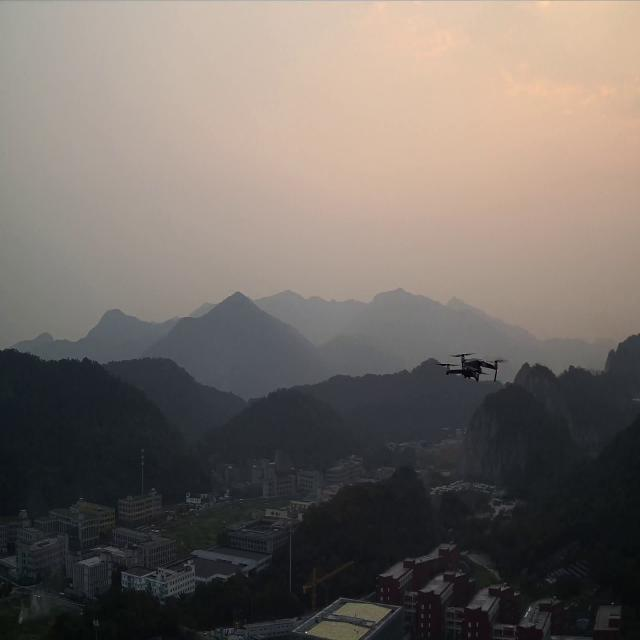UAV: (434, 349, 512, 384)
